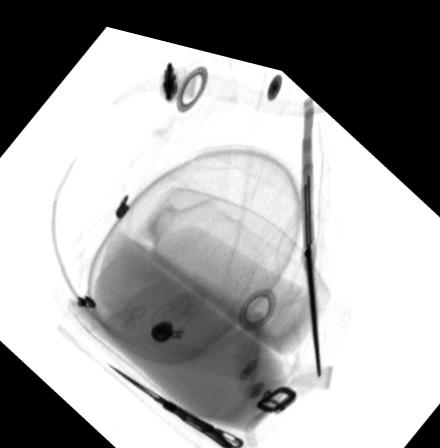Knife: (104, 357, 243, 439)
Scissors: (300, 84, 320, 363)
